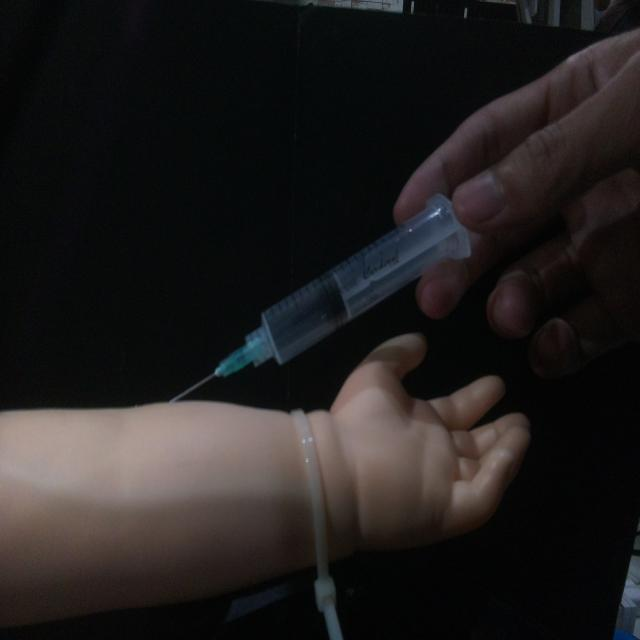17deg: (164, 189, 474, 405)
